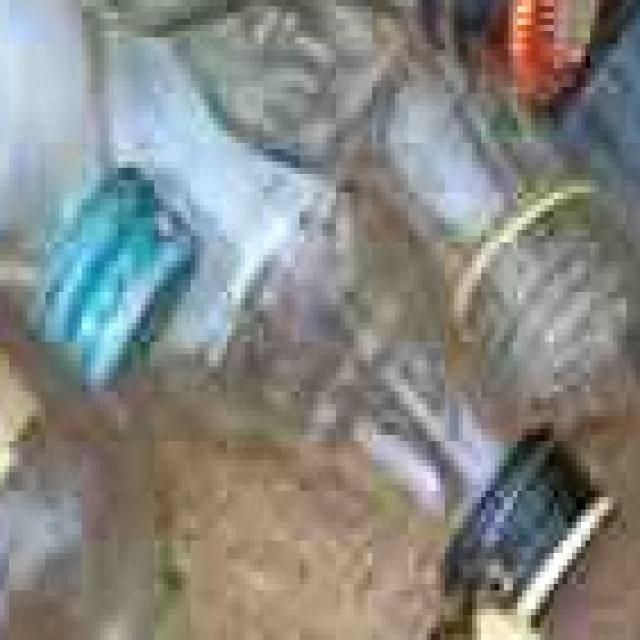nhom: (0, 0, 640, 637)
